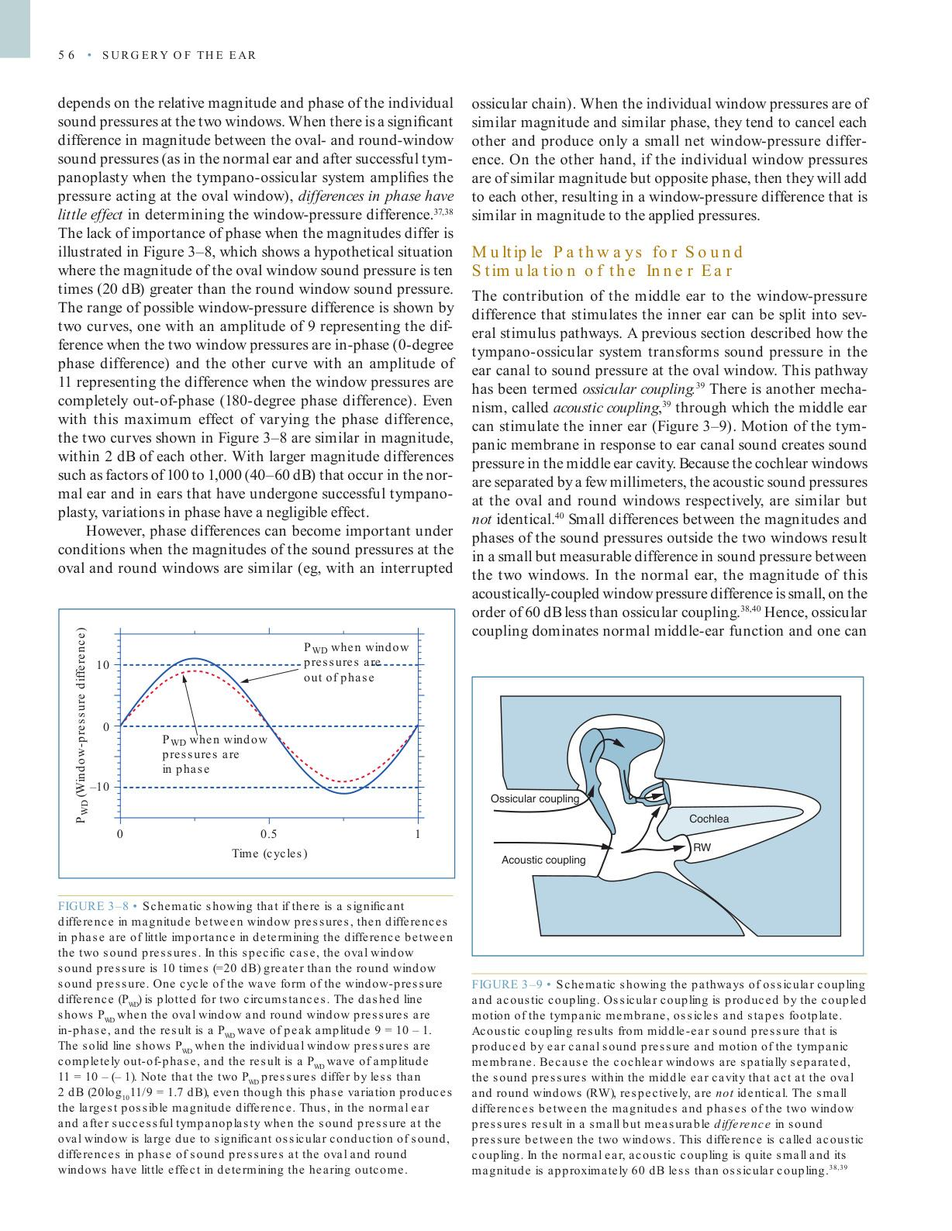caption: (55, 898, 455, 1179), (469, 977, 869, 1181)
header: (101, 49, 256, 60)
image: (476, 681, 858, 950), (62, 614, 450, 874)
section-heading: (469, 241, 744, 279)
text: (55, 94, 456, 579), (468, 286, 869, 641), (468, 95, 871, 225)
